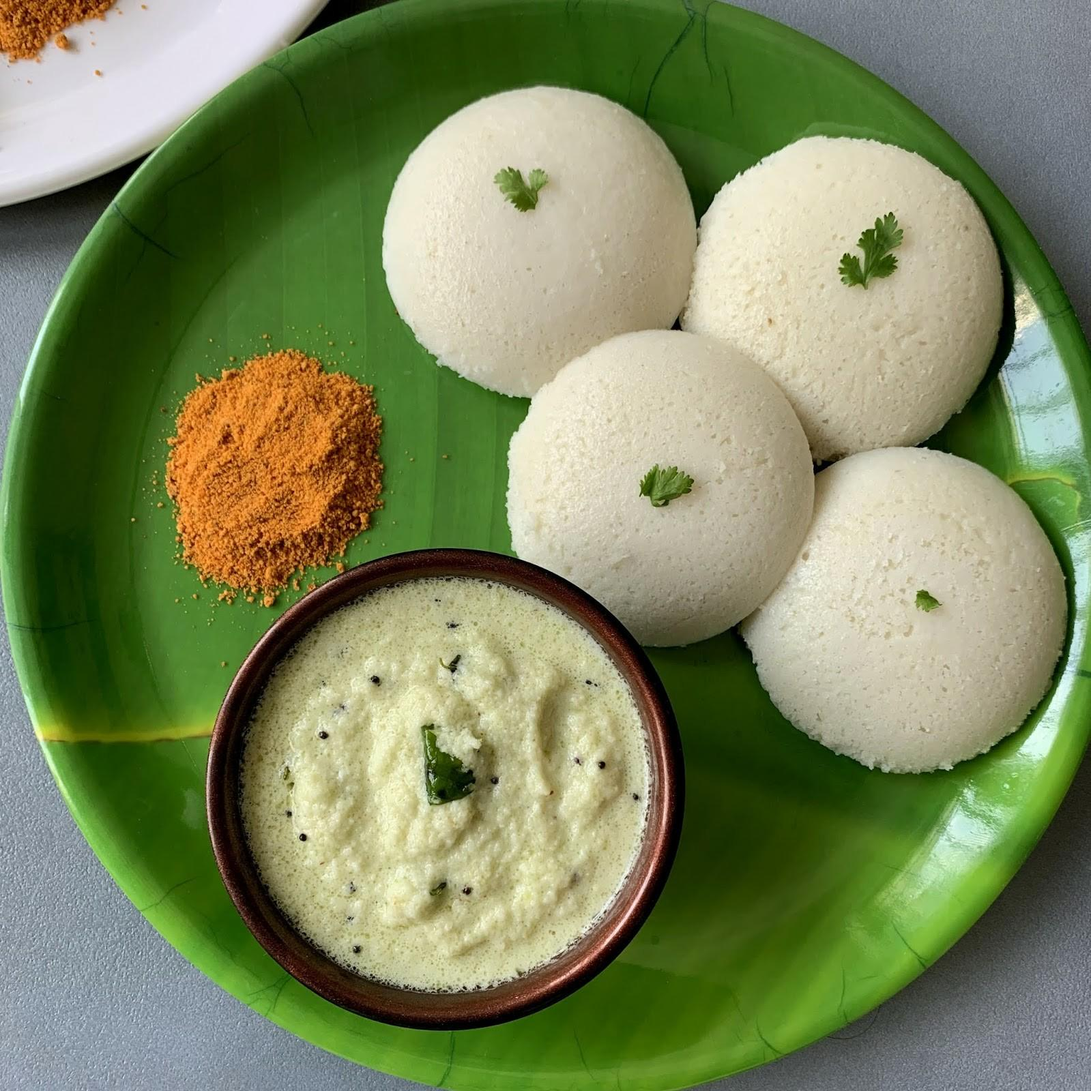CoconutChutney: (237, 568, 650, 987)
